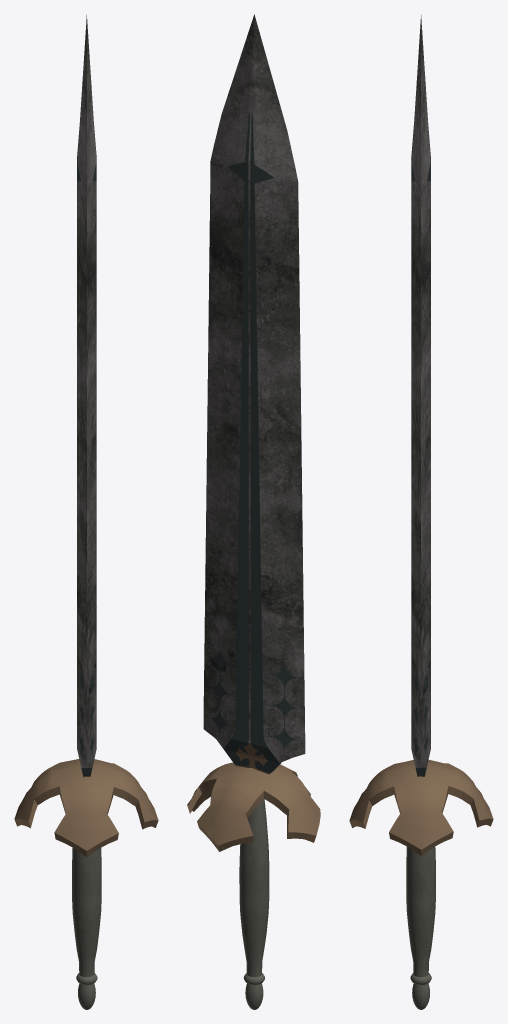
File: sword3.glb
3 views of the same model, side by side, from view 1: azimuth 90°, elevation 25°; view 2: azimuth 150°, elevation 25°; view 3: azimuth 270°, elevation 25° (orthographic).
Parts seen in each view (by area): view 1: pCube18, pCube27, pCylinder3; view 2: pCube18, pCube27, pCylinder3; view 3: pCube18, pCube27, pCylinder3.
Boxes of the visible parts, x1=… form: pCube18: x1=77, y1=15, x2=96, y2=777; pCube27: x1=14, y1=759, x2=158, y2=857; pCylinder3: x1=72, y1=848, x2=101, y2=1009; pCube18: x1=203, y1=14, x2=305, y2=774; pCube27: x1=187, y1=762, x2=320, y2=851; pCylinder3: x1=239, y1=799, x2=269, y2=1009; pCube18: x1=411, y1=15, x2=430, y2=776; pCube27: x1=349, y1=759, x2=493, y2=855; pCylinder3: x1=406, y1=846, x2=435, y2=1009.
Bounding box in the file's own units: 13.46 × 103 × 13.46.
Materials: 3 (3 with a texture image).
